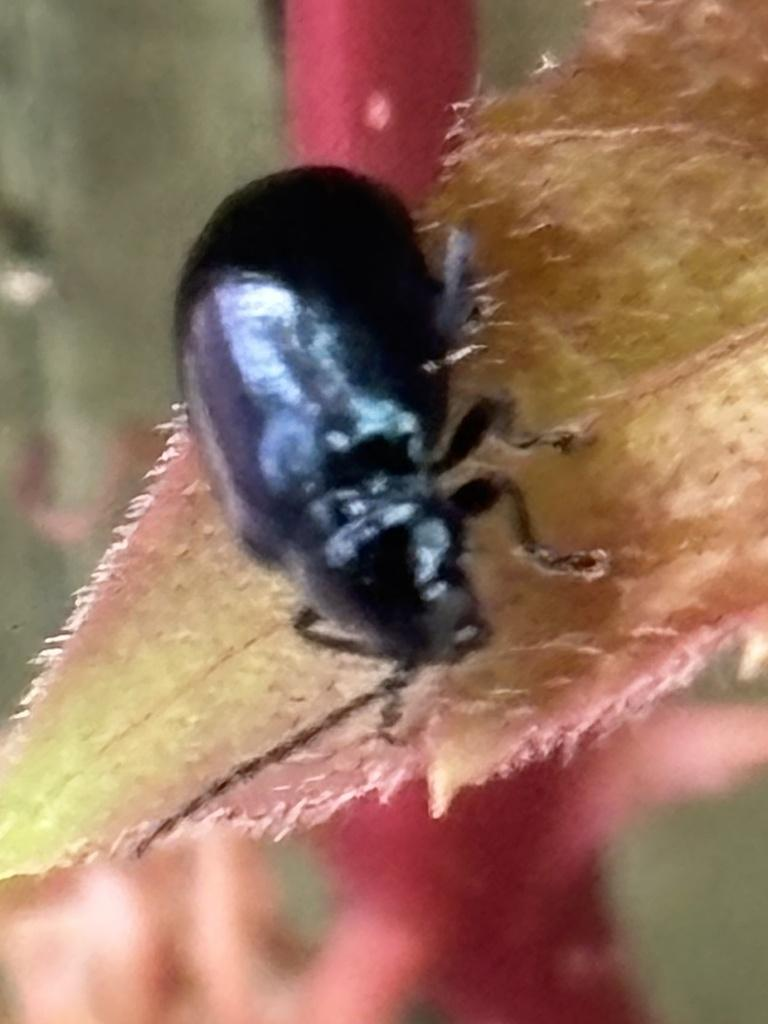flea_beetle: (46, 97, 718, 892)
